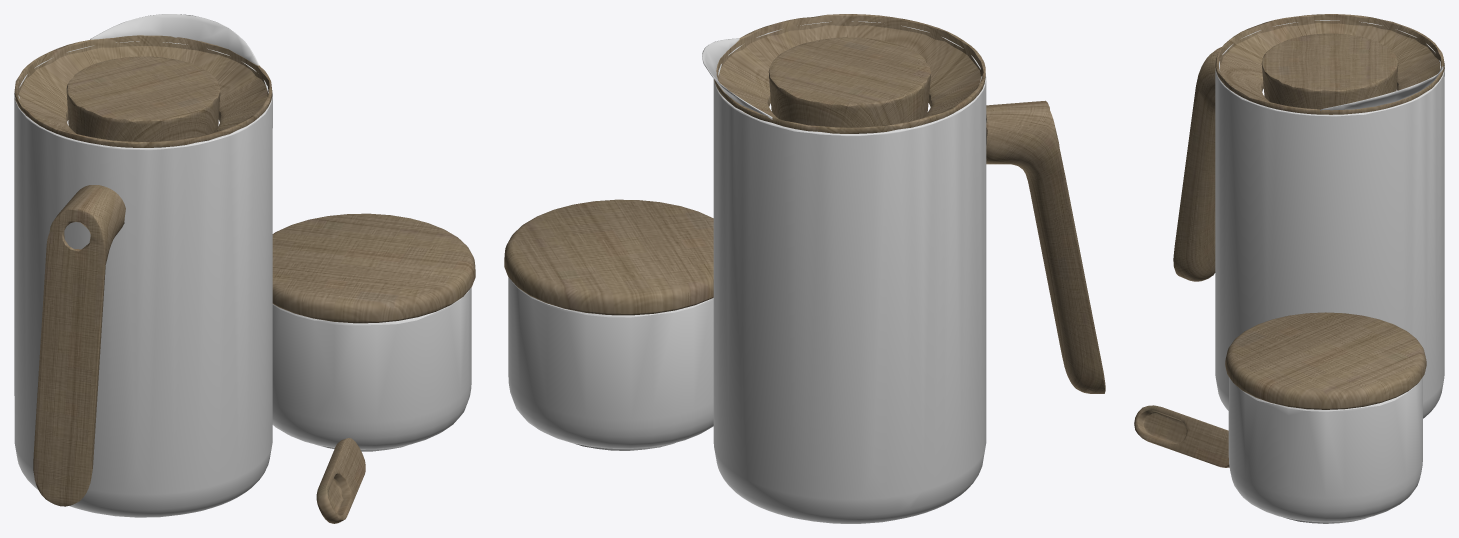
File: acce5.glb
The picture shows the model from 3 angles, left to right: view 1: azimuth 30°, elevation 25°; view 2: azimuth 150°, elevation 25°; view 3: azimuth 270°, elevation 25°; orthographic projection. The views are drawn at different scales.
Parts seen in each view (by area): view 1: Obj3d66-17951767-230-219, Obj3d66-17951767-233-873, Obj3d66-17951767-229-375, Obj3d66-17951767-232-808, Obj3d66-17951767-234-166, Obj3d66-17951767-231-53; view 2: Obj3d66-17951767-230-219, Obj3d66-17951767-233-873, Obj3d66-17951767-229-375, Obj3d66-17951767-232-808, Obj3d66-17951767-234-166; view 3: Obj3d66-17951767-230-219, Obj3d66-17951767-233-873, Obj3d66-17951767-229-375, Obj3d66-17951767-232-808, Obj3d66-17951767-234-166, Obj3d66-17951767-231-53.
Part boxes in pixels (x1=…): Obj3d66-17951767-230-219: x1=14, y1=14, x2=272, y2=517; Obj3d66-17951767-233-873: x1=272, y1=287, x2=471, y2=451; Obj3d66-17951767-229-375: x1=14, y1=35, x2=272, y2=147; Obj3d66-17951767-232-808: x1=272, y1=213, x2=475, y2=323; Obj3d66-17951767-234-166: x1=33, y1=185, x2=125, y2=506; Obj3d66-17951767-231-53: x1=316, y1=438, x2=365, y2=523; Obj3d66-17951767-230-219: x1=702, y1=21, x2=986, y2=523; Obj3d66-17951767-233-873: x1=508, y1=277, x2=713, y2=450; Obj3d66-17951767-229-375: x1=714, y1=14, x2=985, y2=133; Obj3d66-17951767-232-808: x1=504, y1=199, x2=713, y2=315; Obj3d66-17951767-234-166: x1=986, y1=100, x2=1105, y2=393; Obj3d66-17951767-230-219: x1=1215, y1=20, x2=1444, y2=418; Obj3d66-17951767-233-873: x1=1228, y1=377, x2=1422, y2=523; Obj3d66-17951767-229-375: x1=1215, y1=14, x2=1444, y2=114; Obj3d66-17951767-232-808: x1=1225, y1=312, x2=1426, y2=409; Obj3d66-17951767-234-166: x1=1173, y1=47, x2=1221, y2=281; Obj3d66-17951767-231-53: x1=1134, y1=405, x2=1229, y2=467.
Size of the model in its own units: 0.3266 by 0.2563 by 0.202.
2 materials, 1 textured.
